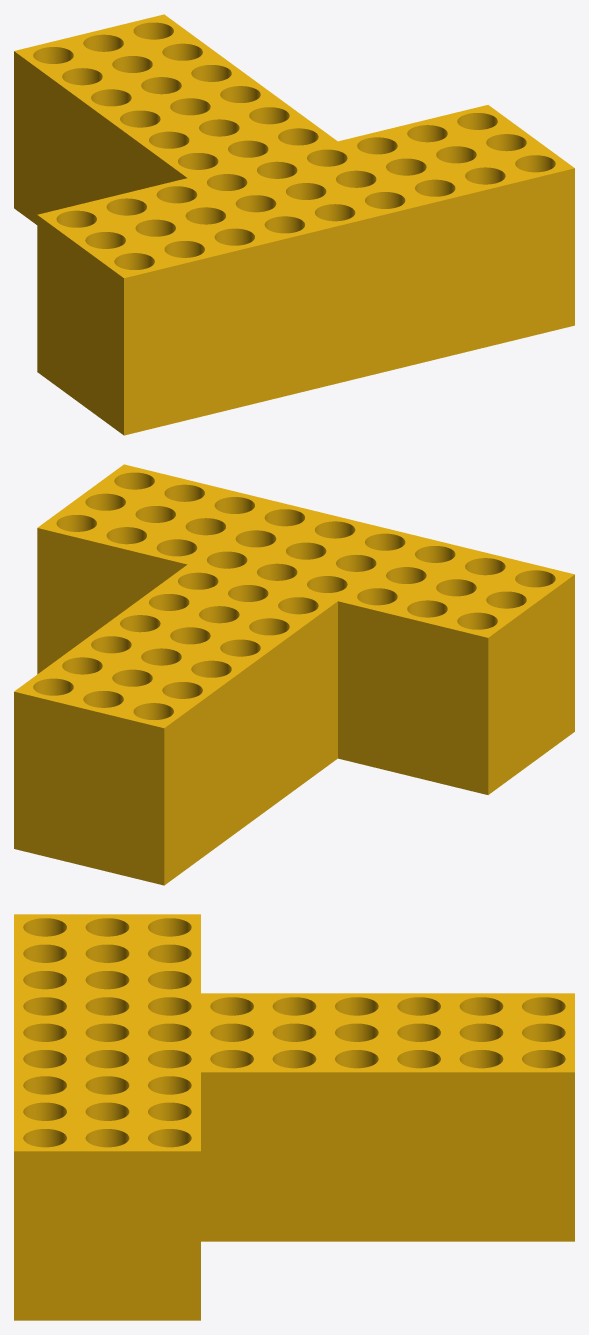
File: tipT.gltf
The picture shows the model from 3 angles, top to bottom: view 1: azimuth 30°, elevation 25°; view 2: azimuth 150°, elevation 25°; view 3: azimuth 270°, elevation 25°; orthographic projection. The views are drawn at different scales.
Parts seen in each view (by area): view 1: Part 1; view 2: Part 1; view 3: Part 1.
Boxes of the visible parts, x1,y1,x2,y2 form: Part 1: (14,14,574,435); Part 1: (14,464,574,885); Part 1: (14,914,574,1320).
Size of the model in its own units: 0.18 by 0.06 by 0.18.
